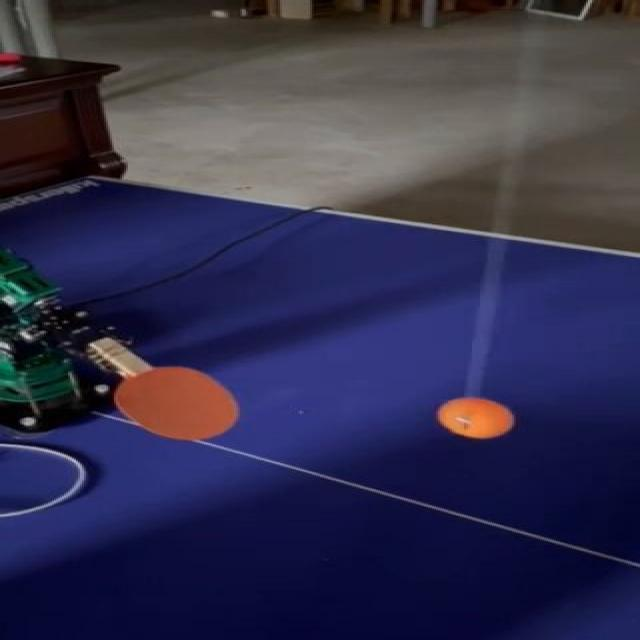ping-pong-ball: (438, 396, 510, 436)
